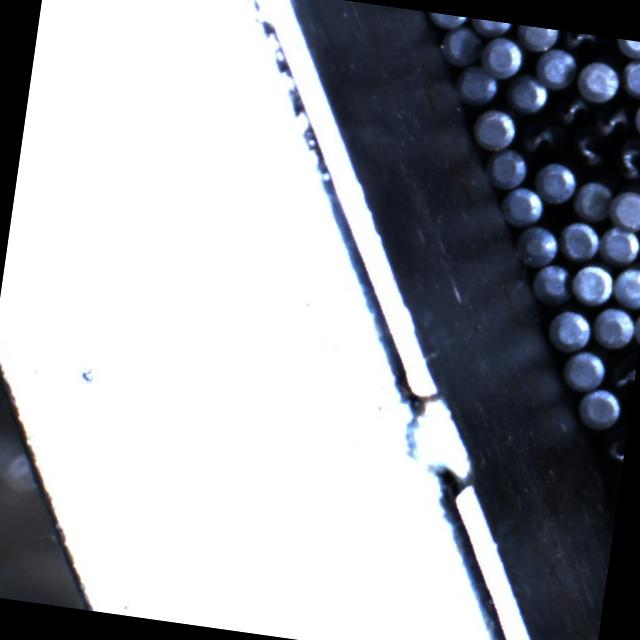tool: (569, 260, 616, 308), (575, 56, 622, 103), (513, 222, 561, 268), (590, 302, 636, 350), (472, 104, 518, 151), (479, 34, 526, 80), (499, 182, 546, 228), (534, 159, 580, 205), (577, 386, 623, 432), (548, 306, 594, 352), (486, 146, 532, 192), (504, 72, 552, 116), (535, 46, 580, 92), (454, 64, 501, 108), (564, 348, 610, 392), (530, 260, 573, 306), (442, 23, 486, 67), (558, 218, 602, 262), (572, 178, 614, 224), (598, 223, 640, 267), (607, 188, 640, 233), (611, 262, 640, 309), (514, 24, 559, 52), (471, 19, 516, 39), (620, 56, 640, 100), (426, 12, 471, 30), (614, 39, 640, 59), (631, 307, 640, 351)
tool_b: (566, 124, 612, 172), (520, 114, 569, 158), (590, 101, 633, 142), (550, 90, 591, 128), (610, 135, 640, 185), (600, 422, 628, 470), (608, 349, 638, 392), (559, 31, 603, 54)
